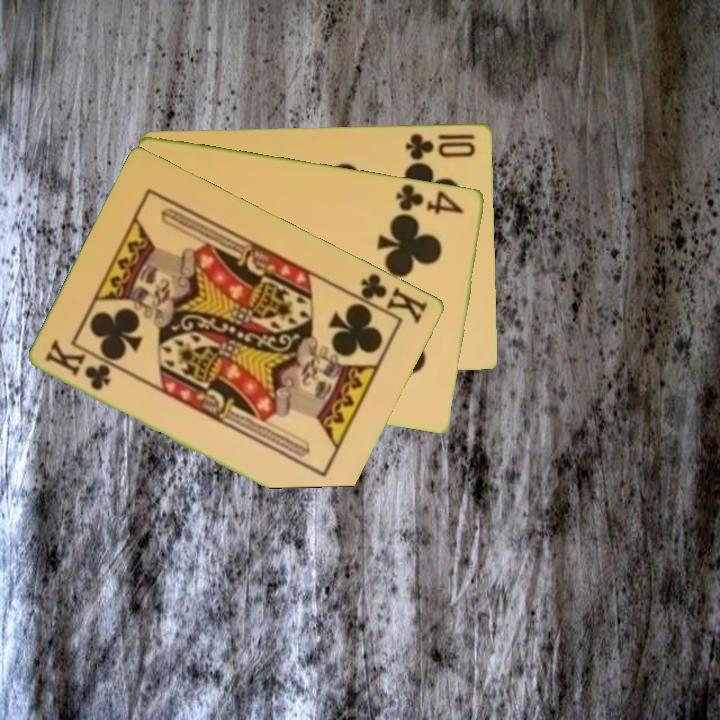10c: (402, 130, 479, 162)
4c: (393, 180, 468, 217)
Kc: (348, 269, 432, 327), (42, 337, 114, 393)
